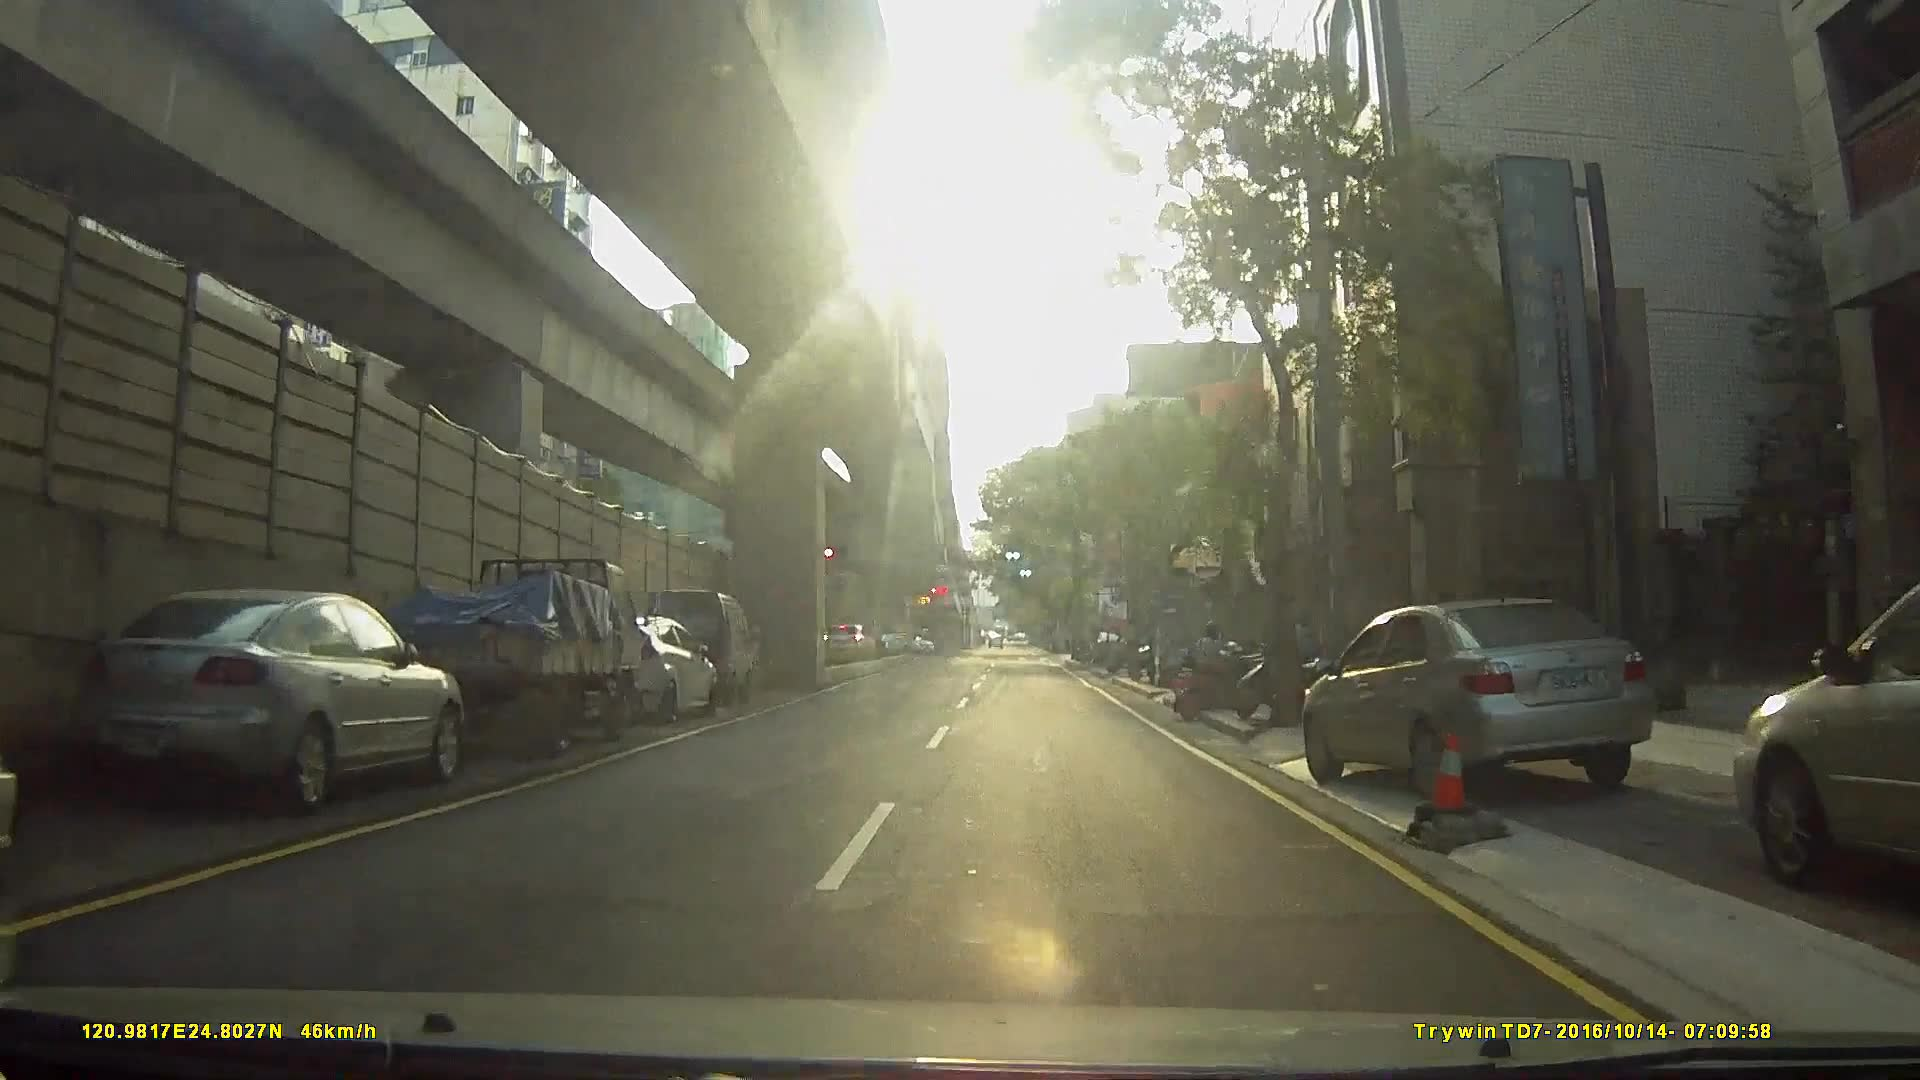rider: (1168, 615, 1256, 724)
vehicle: (61, 580, 481, 808), (1274, 585, 1688, 792), (1721, 572, 1920, 912), (371, 554, 666, 764), (564, 611, 716, 730), (639, 585, 757, 705), (820, 618, 876, 654)
